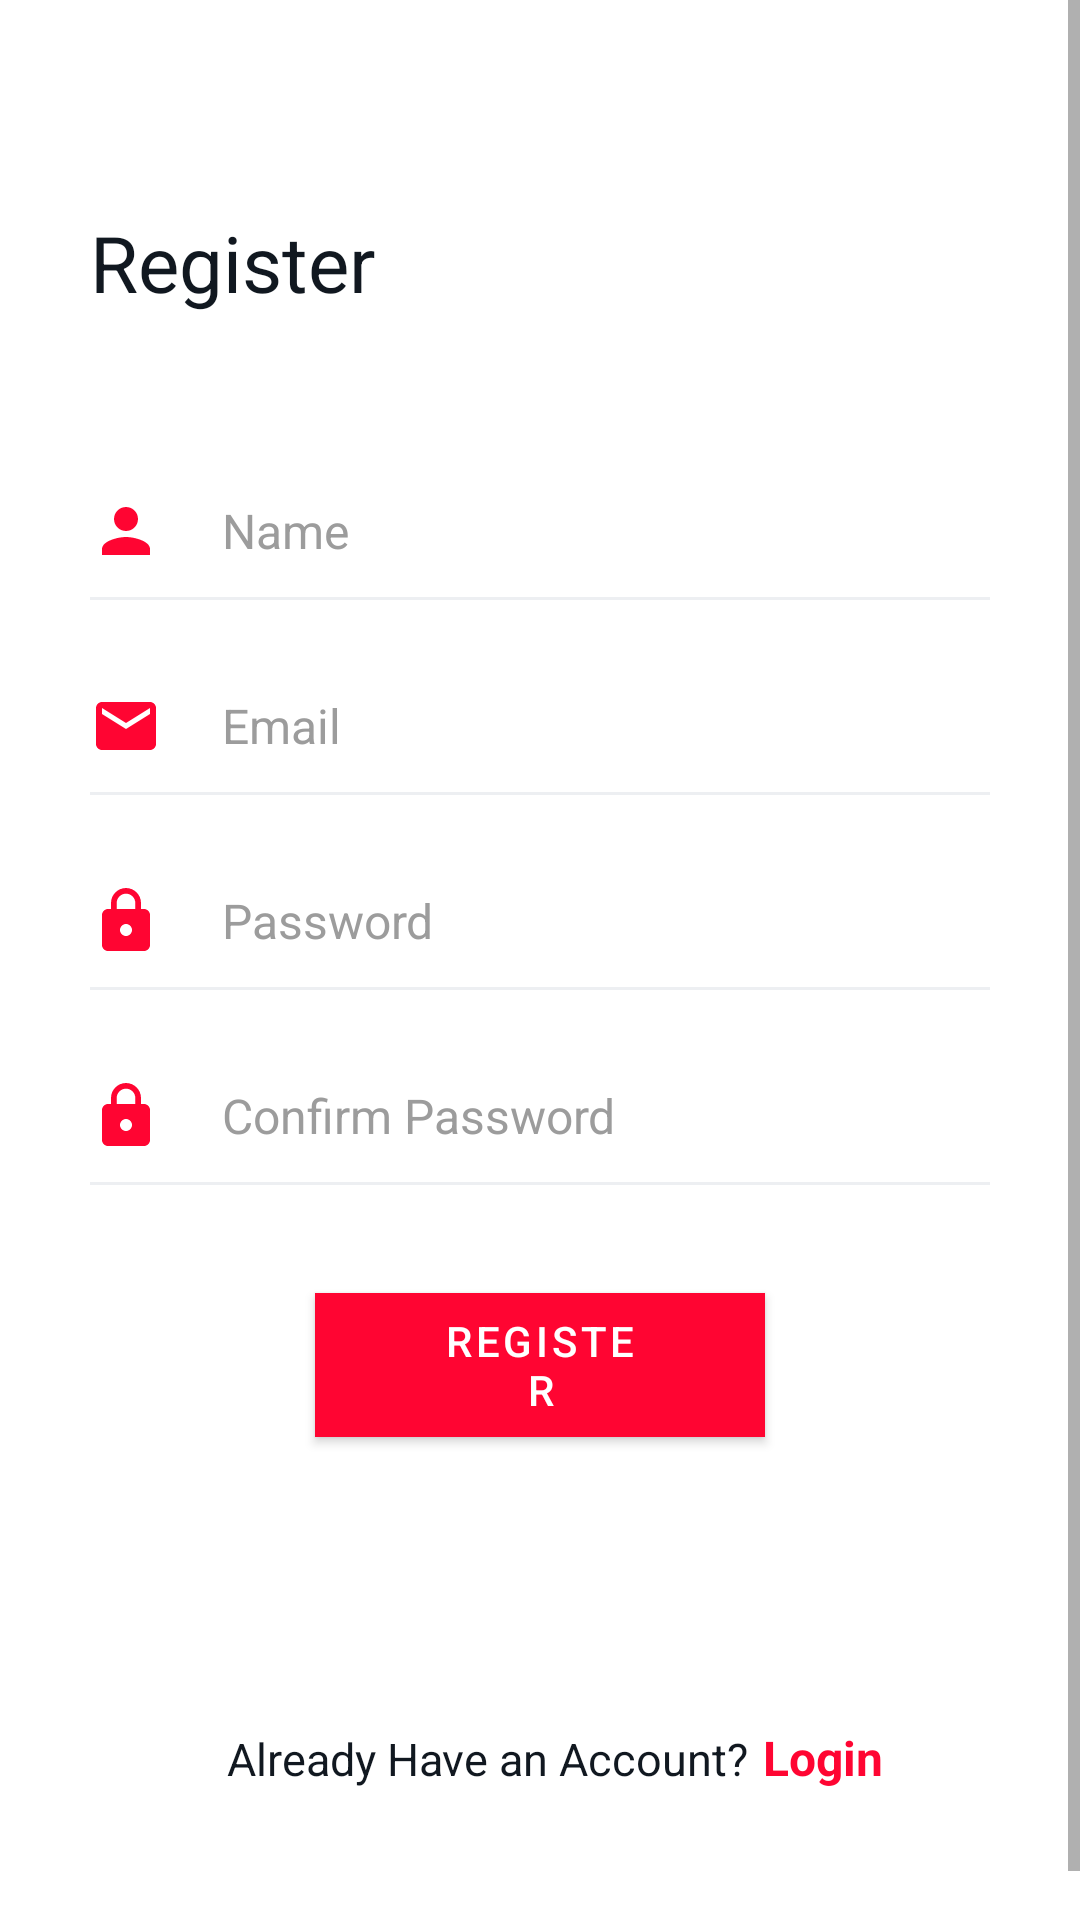

Named icons in this screenshot (1080px×1920px) and their bounding boxes, (x1, y1, x2, y2):
user: (102, 507, 150, 555)
